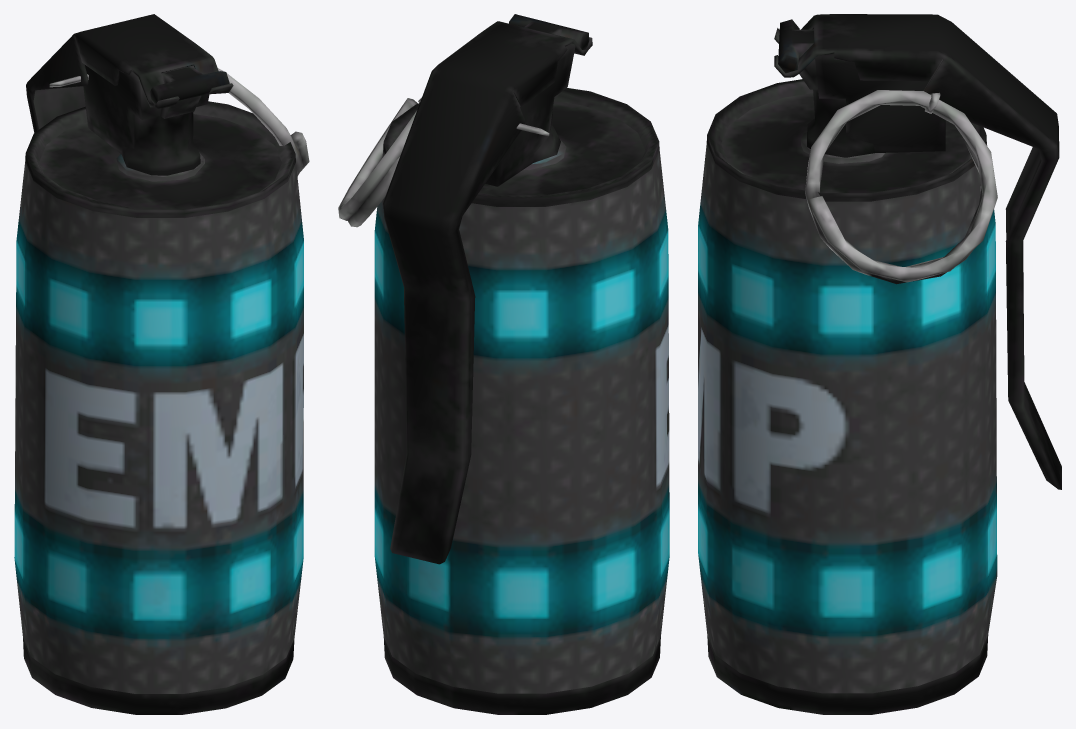
File: Weapons_Grenades_EMPGrenade_3P_LOD0.glb
The picture shows the model from 3 angles, left to right: view 1: azimuth 30°, elevation 25°; view 2: azimuth 150°, elevation 25°; view 3: azimuth 270°, elevation 25°; orthographic projection. The views are drawn at different scales.
Visible parts, largest first — view 1: Hoodie; view 2: Hoodie; view 3: Hoodie.
Part boxes in pixels (x1,y1,x2,y2): Hoodie: (14, 14, 309, 714); Hoodie: (338, 14, 669, 714); Hoodie: (698, 14, 1061, 714).
Bounding box in the file's own units: 0.0635 × 0.1354 × 0.0713.
1 material, 1 textured.
